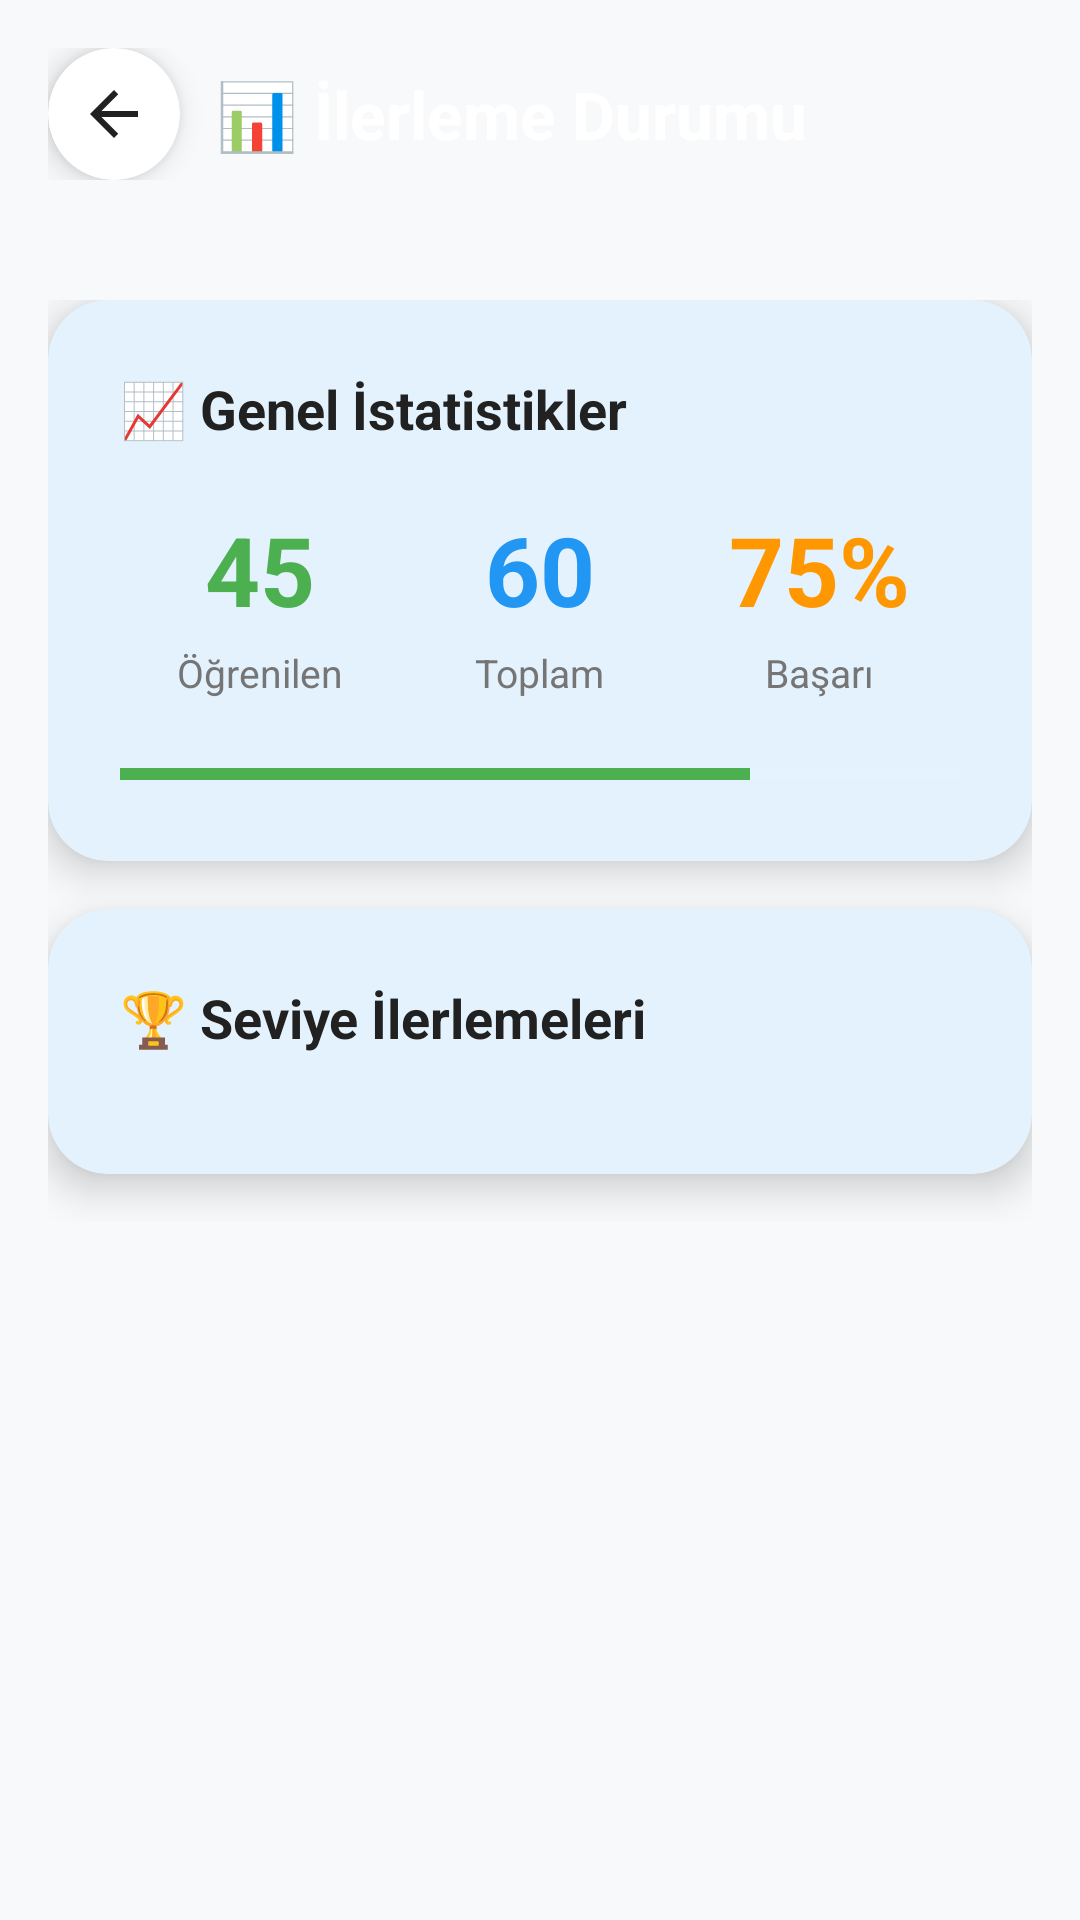

Icons on this 1080px×1920px Android screen, each with the point to tap as (x,y):
Ana Menüye Dön: (114,114)
